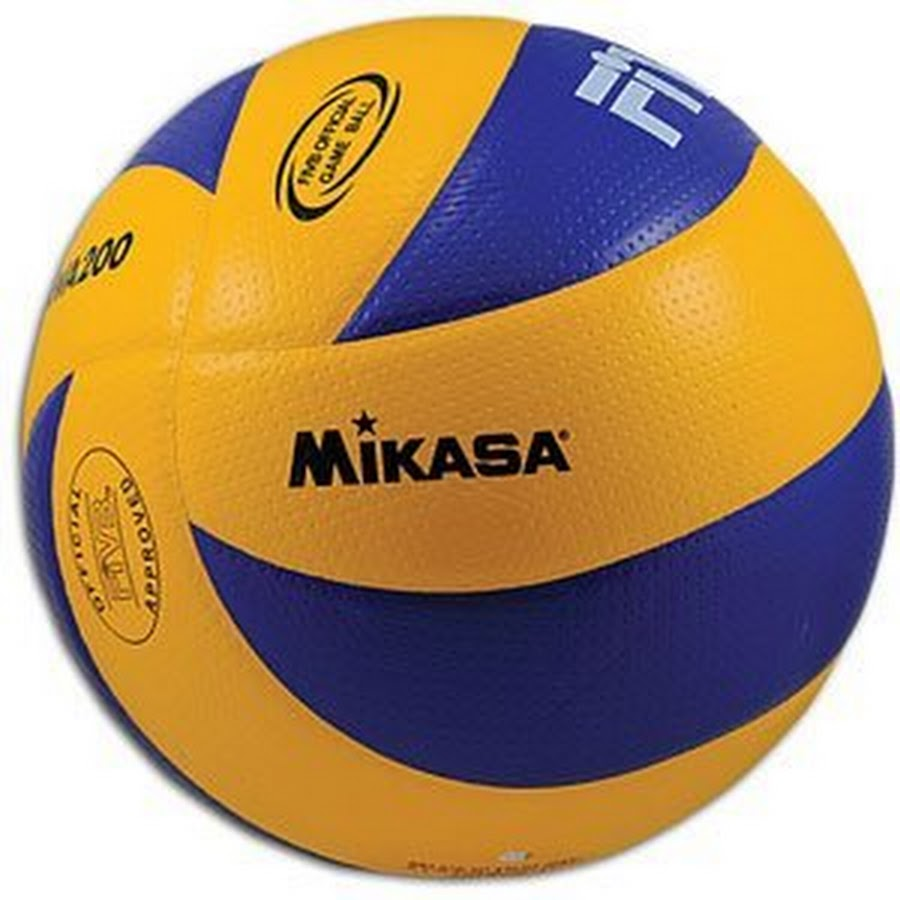volleyball: (21, 10, 894, 876)
